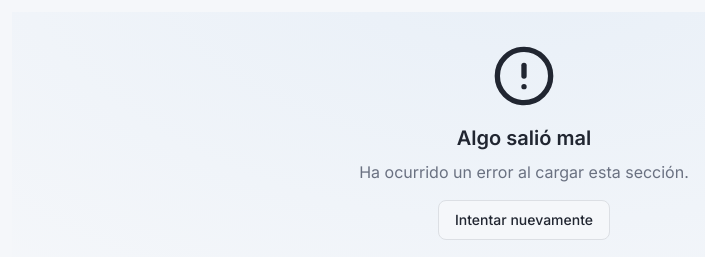
ErrorBoundary › retry button resets the error state
Expected: the heading "Algo salió mal" is shown, [457, 124, 591, 152]
Click the button "Intentar nuevamente" at {"x": 524, "y": 220}, box [438, 200, 610, 240]
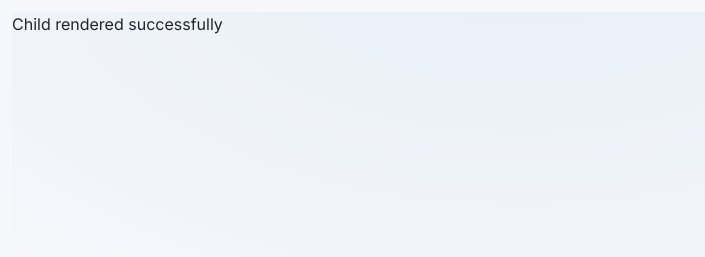
Expected: the text "Child rendered successfully" is shown, [12, 14, 223, 34]
Expected: the heading "Algo salió mal" is gone
